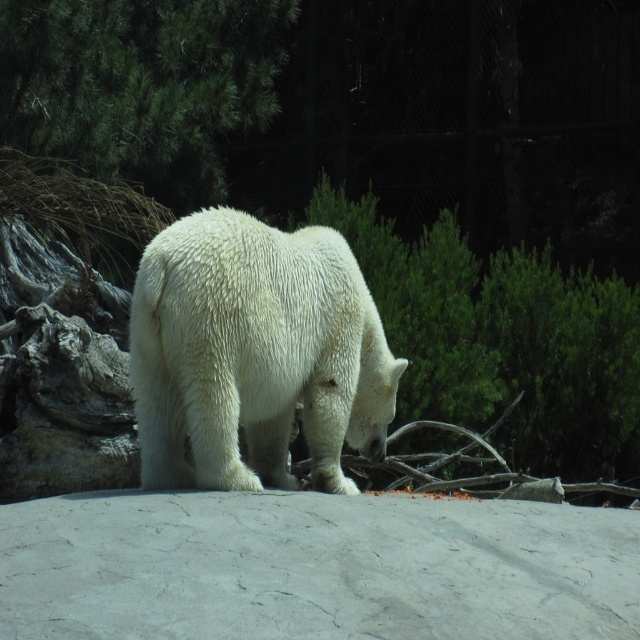Polar bear: (129, 200, 411, 497)
